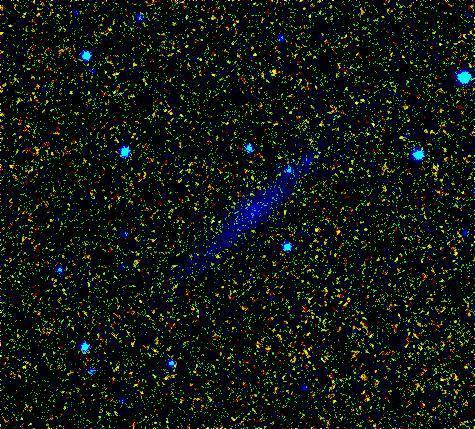star: (277, 152, 307, 182)
